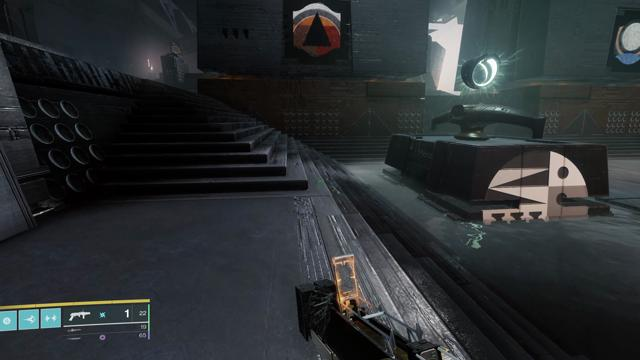pyramid: (292, 3, 341, 56)
traveler: (612, 18, 640, 65)
